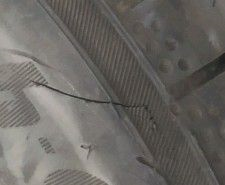cut: (21, 74, 165, 139)
